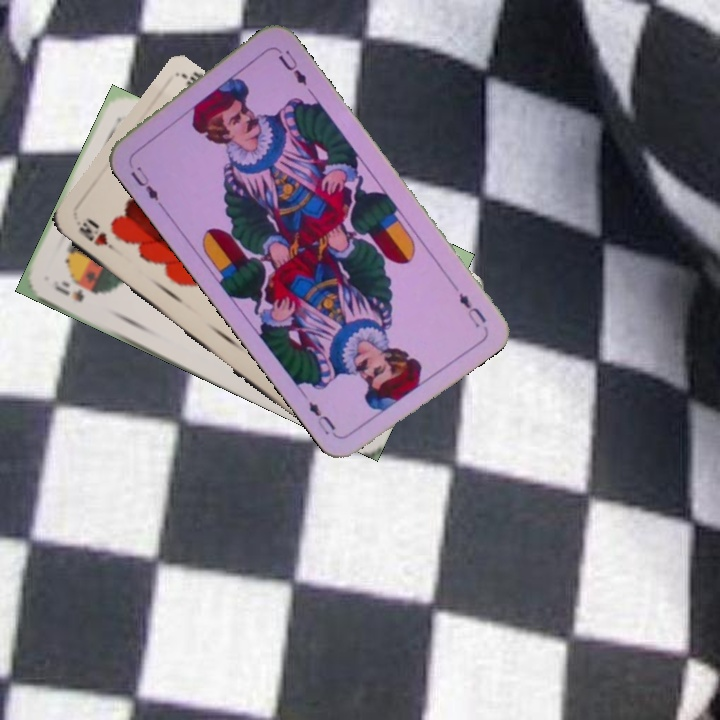EU: (126, 162, 166, 209), (454, 288, 489, 330)
H10: (75, 219, 126, 259)
SO: (49, 276, 100, 305)
